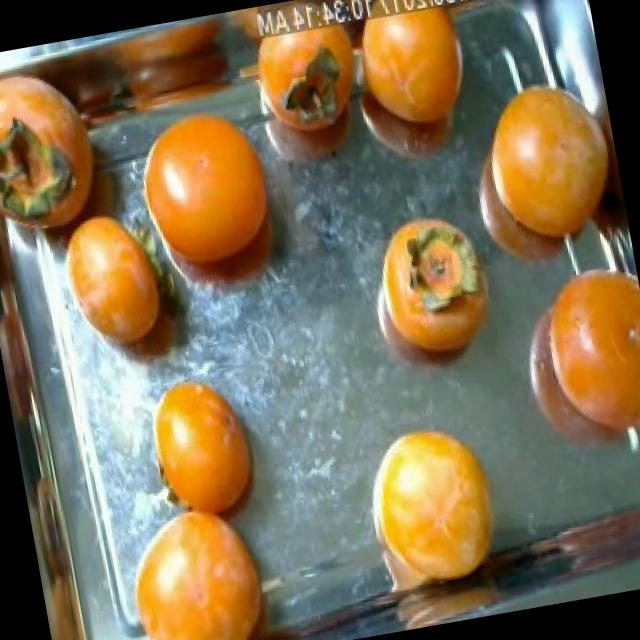Fruit: (434, 54, 634, 291), (345, 400, 526, 614), (480, 238, 640, 479), (349, 185, 521, 402), (318, 0, 501, 188), (36, 188, 191, 404), (105, 480, 294, 640), (132, 350, 281, 544)
